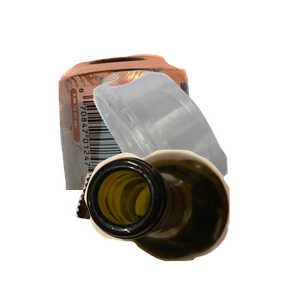glass: (82, 147, 300, 300)
metal: (56, 52, 242, 232)
plastic: (91, 69, 300, 249)
trash: (73, 171, 242, 300)
